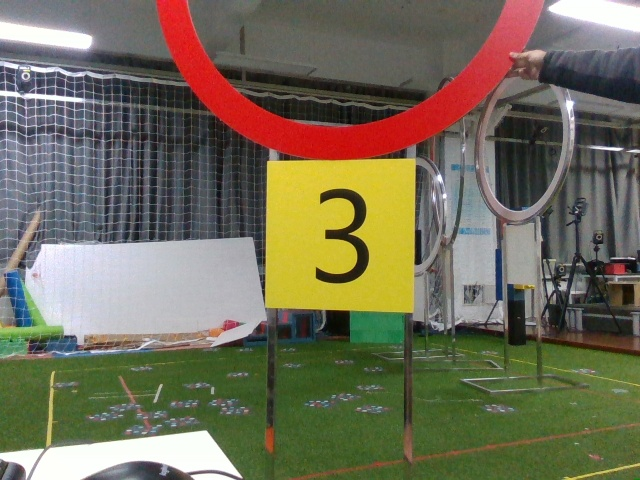target: (270, 163, 409, 307)
